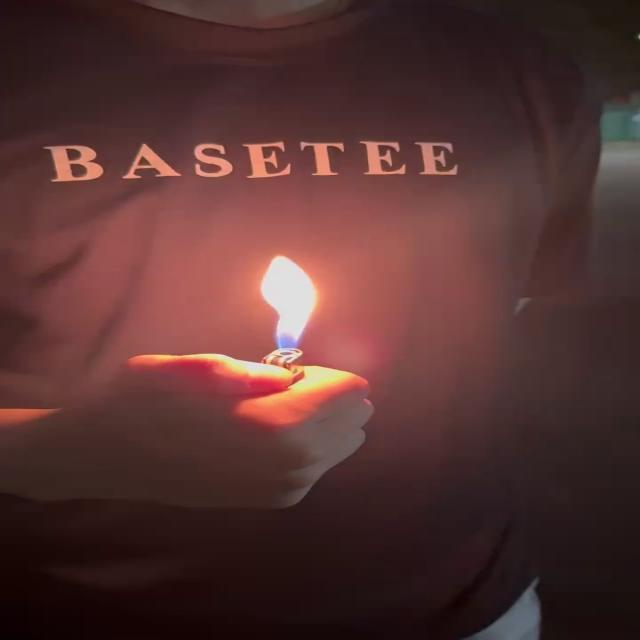Fire: (260, 252, 324, 356)
